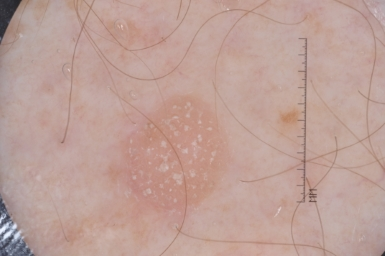seborrheic keratosis: (109, 90, 244, 221)
